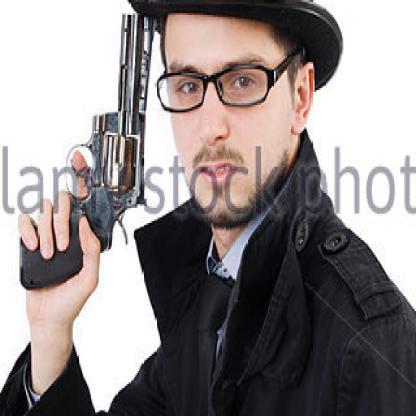gun: (12, 0, 168, 304)
